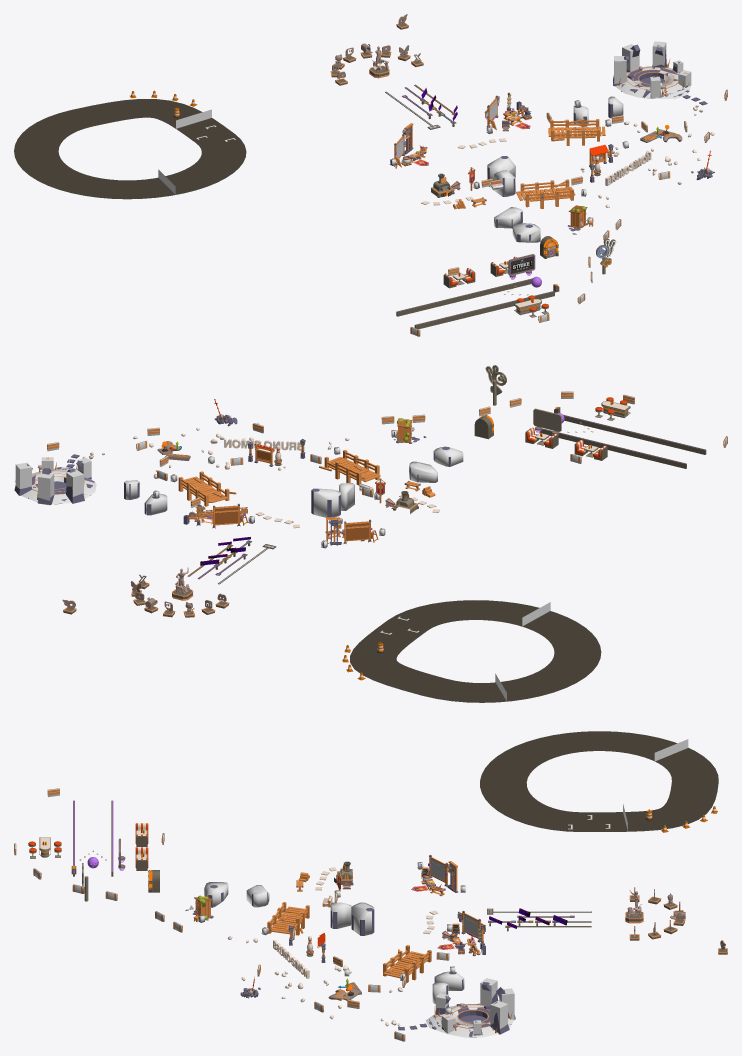
Rendered from areas.glb.
3 views of the same model, one above another, from view 1: azimuth 30°, elevation 25°; view 2: azimuth 150°, elevation 25°; view 3: azimuth 270°, elevation 25° (orthographic). The views are drawn at different scales.
Visible parts, largest first — view 1: refCircuitRoad, refBowlingBumpersPhysicalKinematicPositionBased, bridgePhysicalFixed.001, bridgePhysicalFixed, trimesh.001; view 2: refCircuitRoad, refBowlingBumpersPhysicalKinematicPositionBased, bridgePhysicalFixed.001, bridgePhysicalFixed, trimesh.001, hull.015, Cube.177, Cube.159; view 3: refCircuitRoad, bridgePhysicalFixed, bridgePhysicalFixed.001, trimesh.001, hull.015, Cylinder.021, Cube.159, Cube.172.
Boxes of the visible parts, bbox=[...] form: refCircuitRoad: bbox=[14, 99, 246, 199]; refBowlingBumpersPhysicalKinematicPositionBased: bbox=[396, 278, 554, 329]; bridgePhysicalFixed.001: bbox=[516, 179, 575, 208]; bridgePhysicalFixed: bbox=[548, 118, 605, 145]; trimesh.001: bbox=[616, 66, 691, 99]; refCircuitRoad: bbox=[350, 600, 601, 702]; refBowlingBumpersPhysicalKinematicPositionBased: bbox=[539, 414, 706, 468]; bridgePhysicalFixed.001: bbox=[319, 450, 380, 485]; bridgePhysicalFixed: bbox=[178, 471, 236, 506]; trimesh.001: bbox=[22, 467, 96, 504]; hull.015: bbox=[313, 488, 340, 517]; Cube.177: bbox=[533, 408, 561, 434]; Cube.159: bbox=[131, 581, 229, 617]; refCircuitRoad: bbox=[480, 731, 718, 831]; bridgePhysicalFixed: bbox=[383, 945, 431, 982]; bridgePhysicalFixed.001: bbox=[267, 902, 309, 936]; trimesh.001: bbox=[425, 1004, 513, 1037]; hull.015: bbox=[351, 902, 374, 935]; Cylinder.021: bbox=[429, 1005, 490, 1029]; Cube.159: bbox=[629, 895, 685, 940]; Cube.172: bbox=[435, 982, 515, 1035].
Bounding box in the file's own units: 125 × 9.69 × 122.
41 materials, 12 textured.
